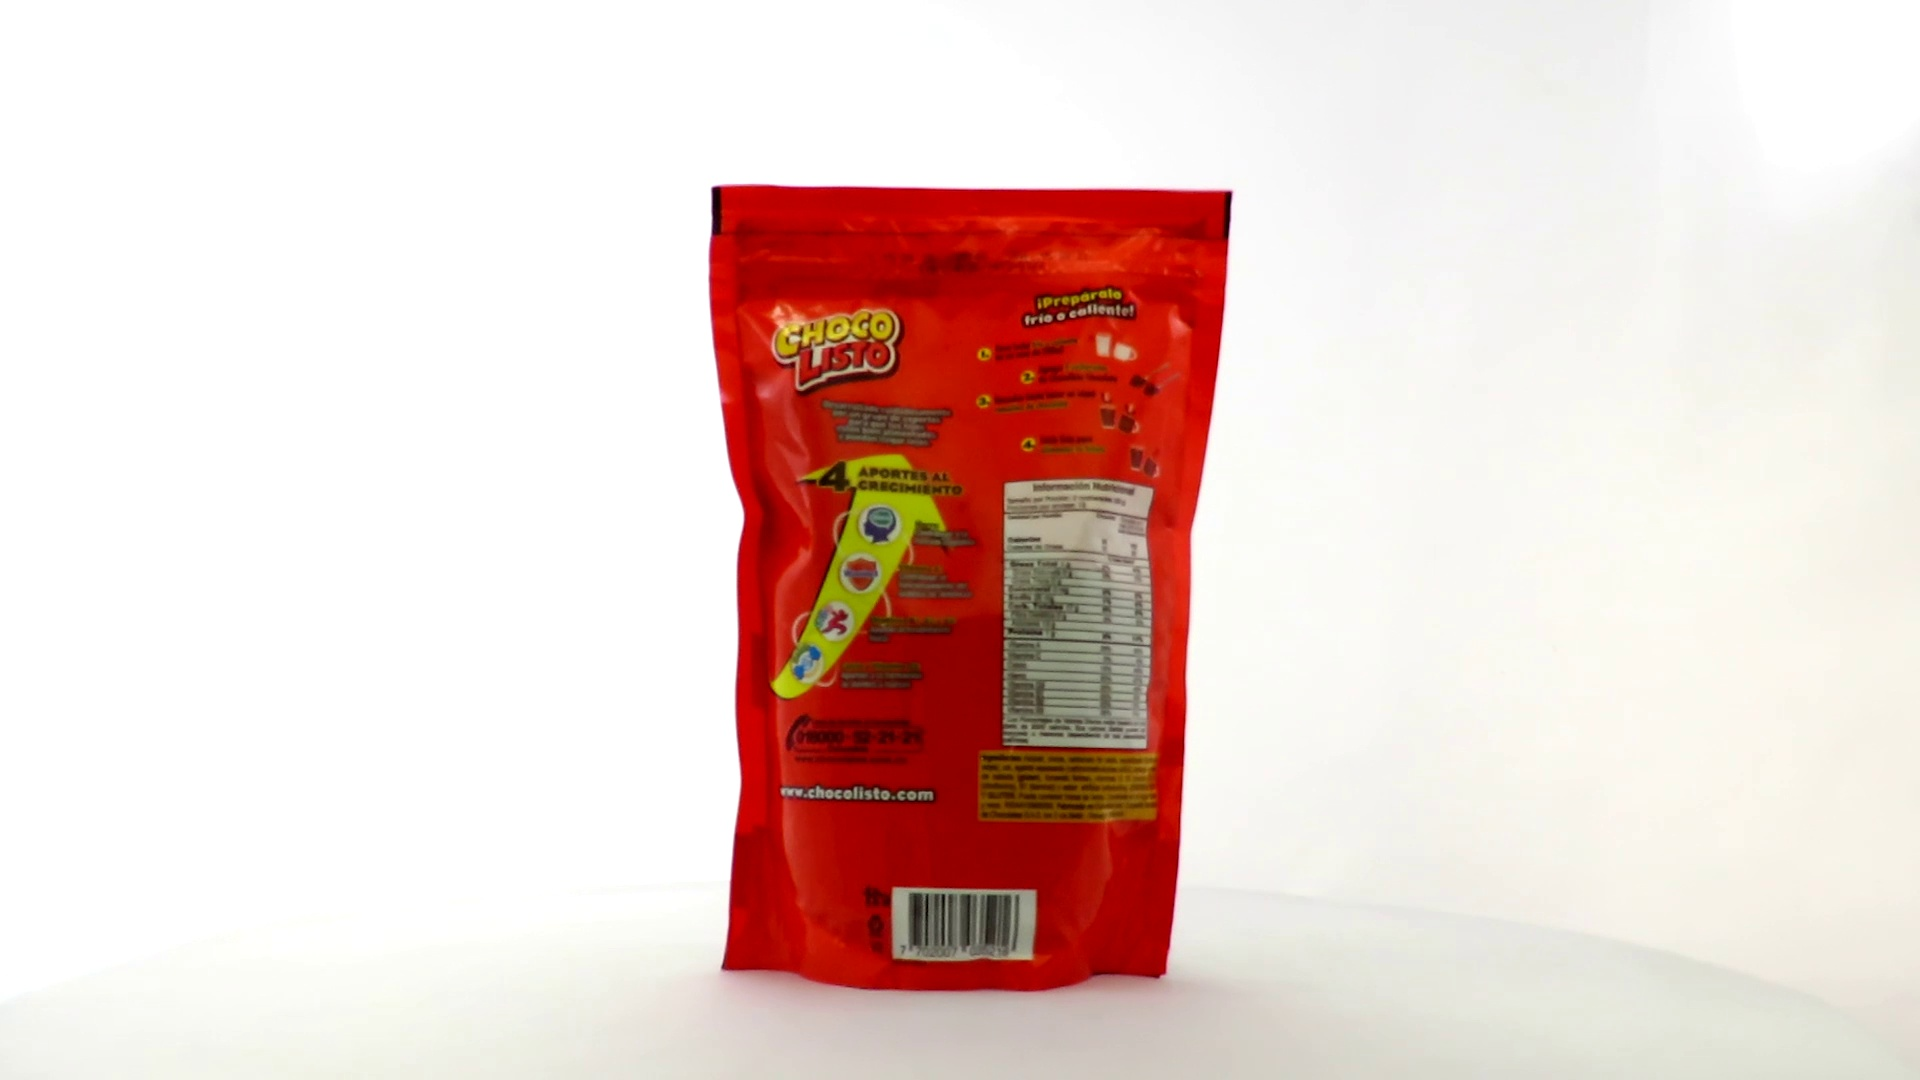COL0170103DYP36000: (703, 179, 1238, 998)
